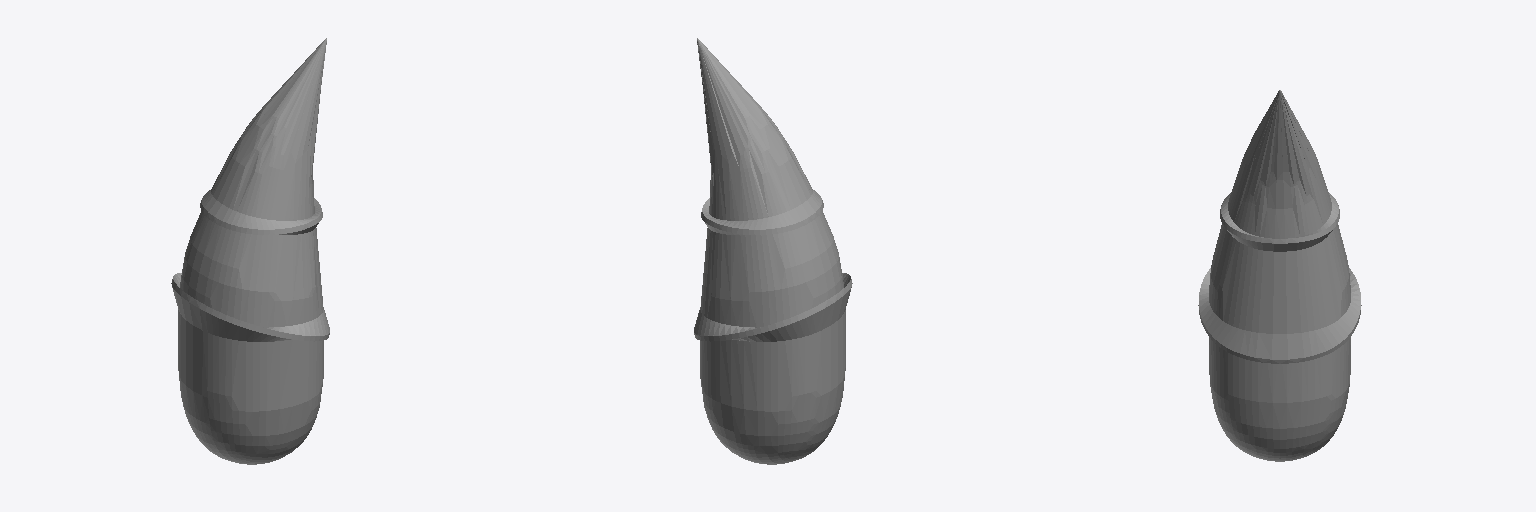
File: foot.obj
3 views of the same model, side by side, from view 1: azimuth 30°, elevation 25°; view 2: azimuth 150°, elevation 25°; view 3: azimuth 270°, elevation 25° (orthographic).
Visible parts, largest first — view 1: foot_Cube.001; view 2: foot_Cube.001; view 3: foot_Cube.001.
Part boxes in pixels (x1,y1,x2,y2): foot_Cube.001: (171, 38, 329, 464); foot_Cube.001: (694, 38, 852, 464); foot_Cube.001: (1198, 90, 1361, 461).
Bounding box in the file's own units: 0.5514 × 1.49 × 0.5485.